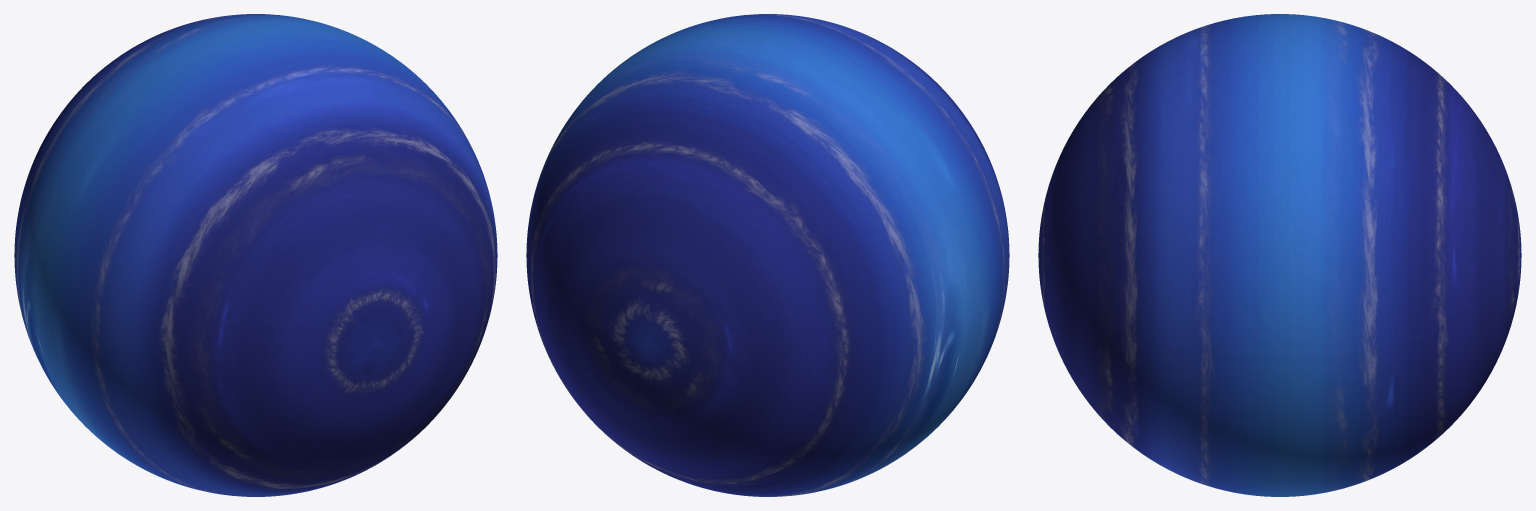
Rendered from Venus.gltf.
The picture shows the model from 3 angles, left to right: view 1: azimuth 30°, elevation 25°; view 2: azimuth 150°, elevation 25°; view 3: azimuth 270°, elevation 25°; orthographic projection.
Parts seen in each view (by area): view 1: Venus; view 2: Venus; view 3: Venus.
Part boxes in pixels (x1,y1,x2,y2): Venus: (14, 14, 497, 496); Venus: (526, 14, 1009, 496); Venus: (1038, 14, 1521, 496).
Bounding box in the file's own units: 10 × 10 × 10.
